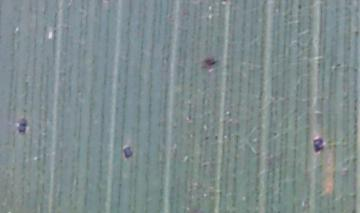tarspot: (200, 55, 217, 72), (311, 134, 324, 153), (17, 115, 28, 135), (121, 144, 133, 161), (270, 130, 280, 138), (296, 3, 304, 11), (202, 134, 209, 142)
